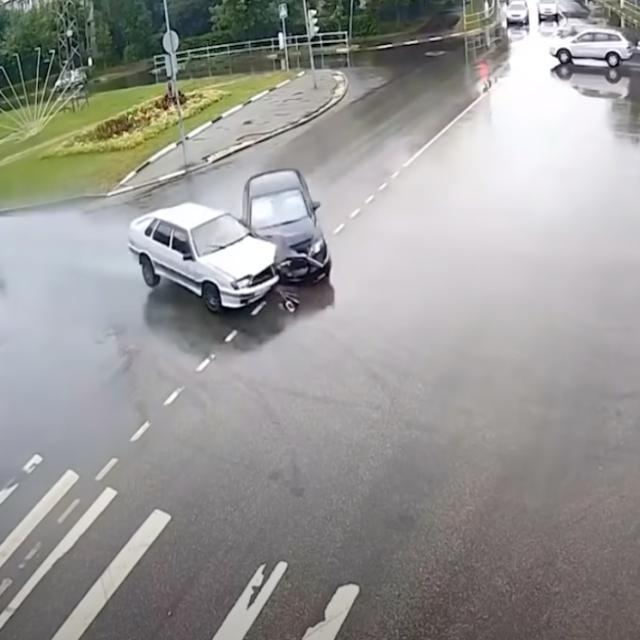accident: (127, 168, 333, 320)
non-accident: (505, 1, 635, 69)
